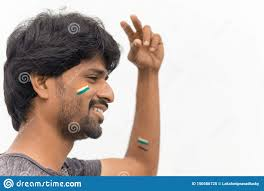Indian_Male: (31, 30, 135, 153)
